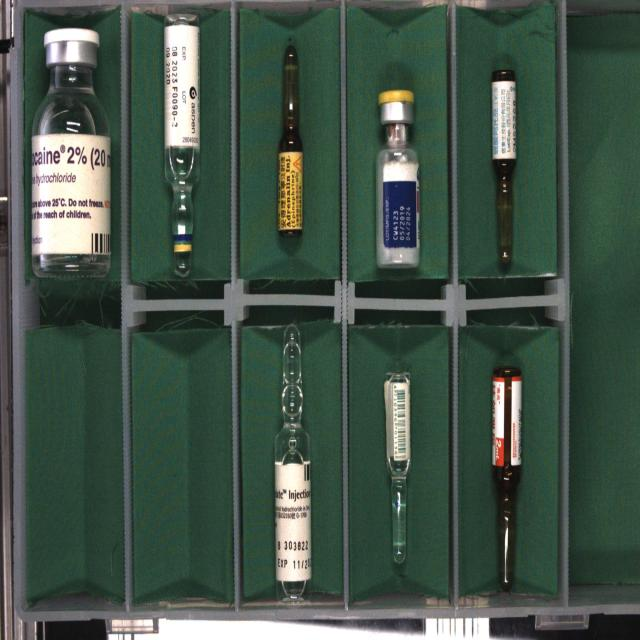Vials: (31, 28, 111, 279), (376, 90, 419, 268)
